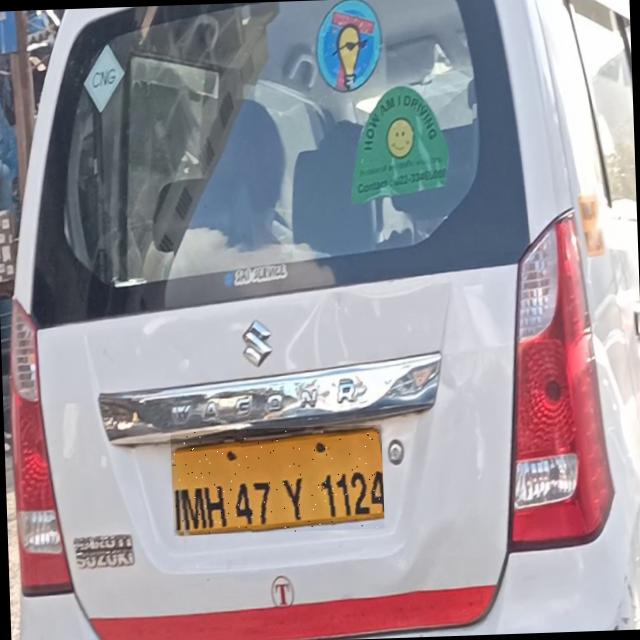Plate: (171, 426, 386, 537)
